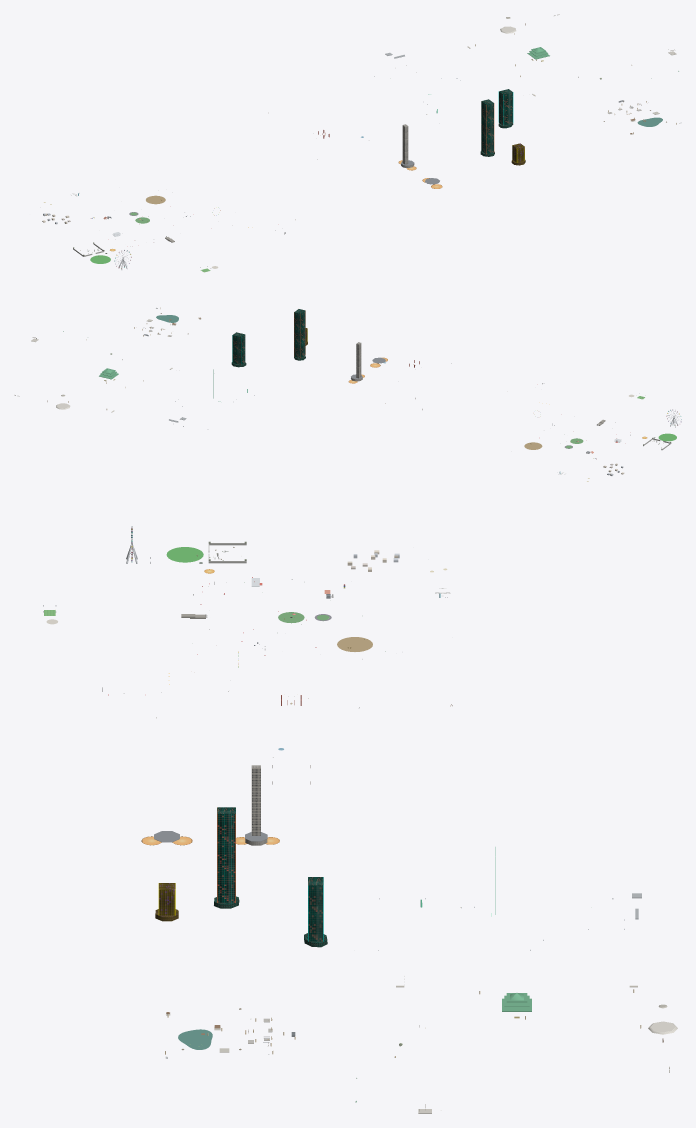
The model's file is pack_31.glb.
3 renders of one model, top to bottom at view 1: azimuth 30°, elevation 25°; view 2: azimuth 150°, elevation 25°; view 3: azimuth 270°, elevation 25°, orthographic. The views are drawn at different scales.
Visible parts, largest first — view 1: pack_31; view 2: pack_31; view 3: pack_31.
Boxes of the visible parts, box(x1,y1,x2,y2) form: pack_31: box(42, 14, 681, 272); pack_31: box(14, 307, 681, 481); pack_31: box(43, 526, 677, 1113).
Size of the model in its own units: 2543 by 202 by 1243.
Materials: 177 (12 with a texture image).
